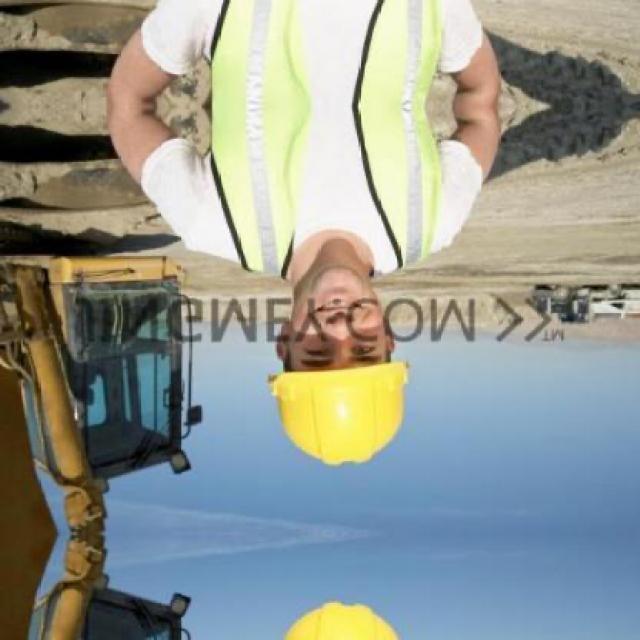safetyhelmet: (256, 331, 430, 468)
